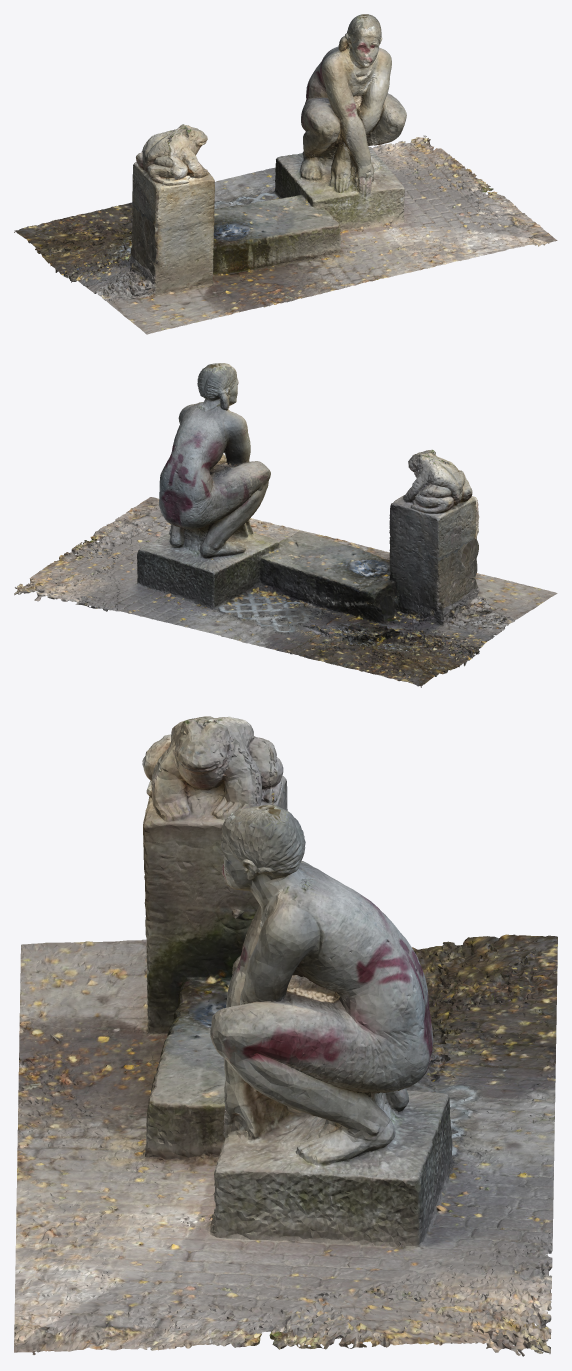
The picture shows the model from 3 angles, top to bottom: view 1: azimuth 30°, elevation 25°; view 2: azimuth 150°, elevation 25°; view 3: azimuth 270°, elevation 25°; orthographic projection. The views are drawn at different scales.
Parts seen in each view (by area): view 1: 2k.50k; view 2: 2k.50k; view 3: 2k.50k.
Part boxes in pixels (x1,y1,x2,y2): 2k.50k: (14,14,557,334); 2k.50k: (14,363,557,687); 2k.50k: (14,716,557,1356).
Bounding box in the file's own units: 27.71 × 13.72 × 15.92.
1 material, 1 textured.
